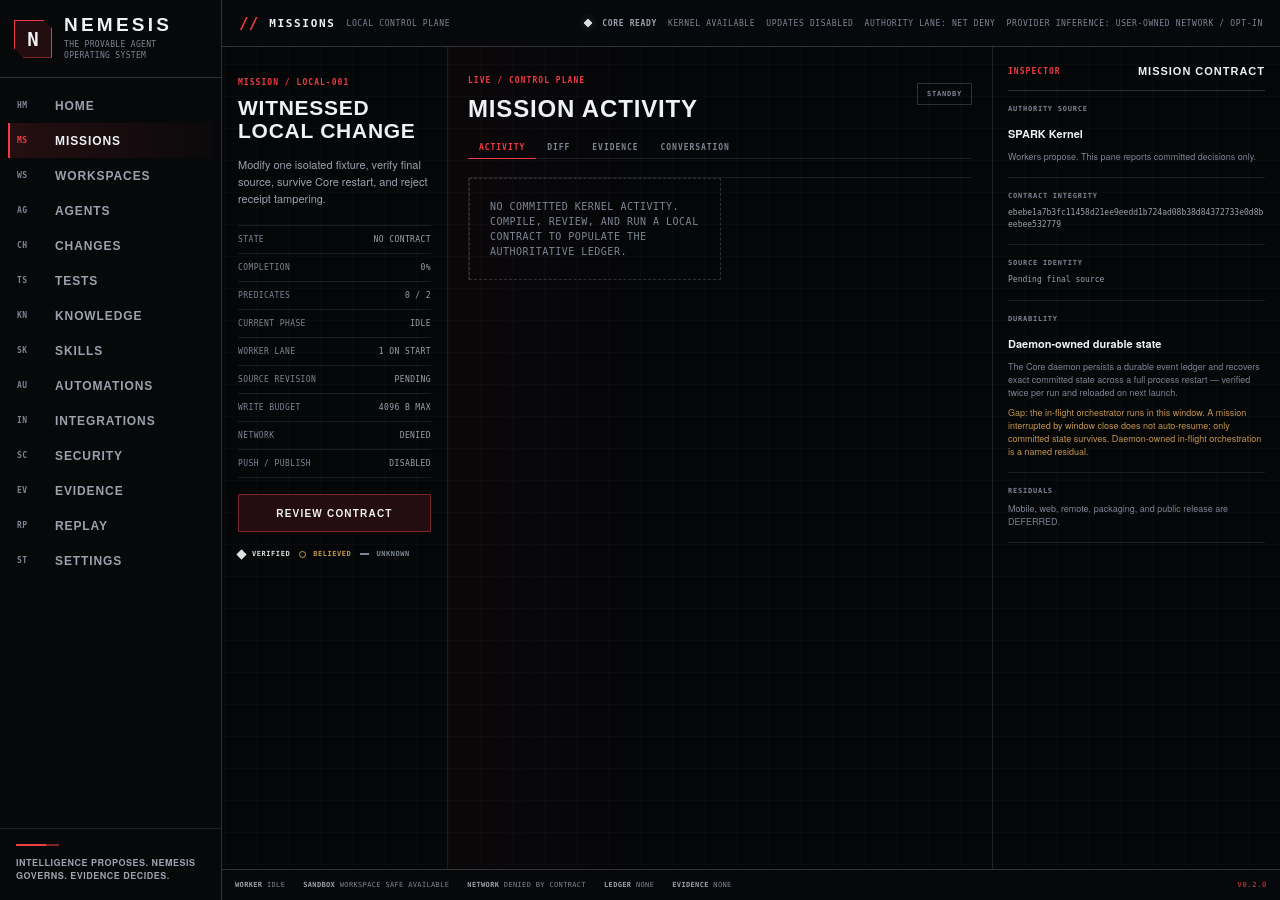
Scenario: NEMESIS Desktop production surface › labels the kernel conversation with kernel enum names, never model chat
What coordinates should you click on to do the following:
click the button "MS Missions"
I would click on:
 (110, 140)
Its box is [8,123,213,158].
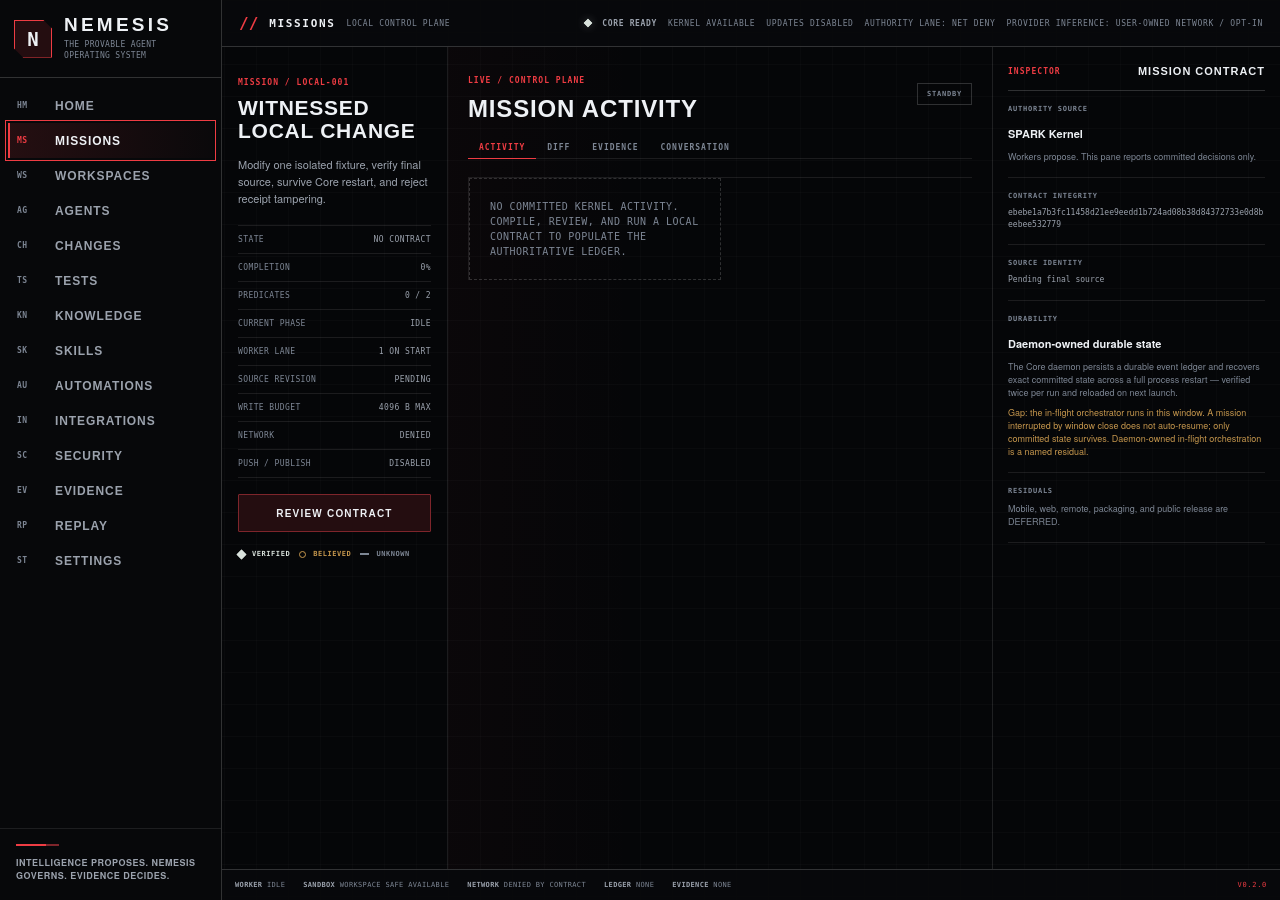
What coordinates should you click on to do the following:
click the tab "Conversation"
I would click on:
 (695, 148)
Its box is [650,137,741,159].
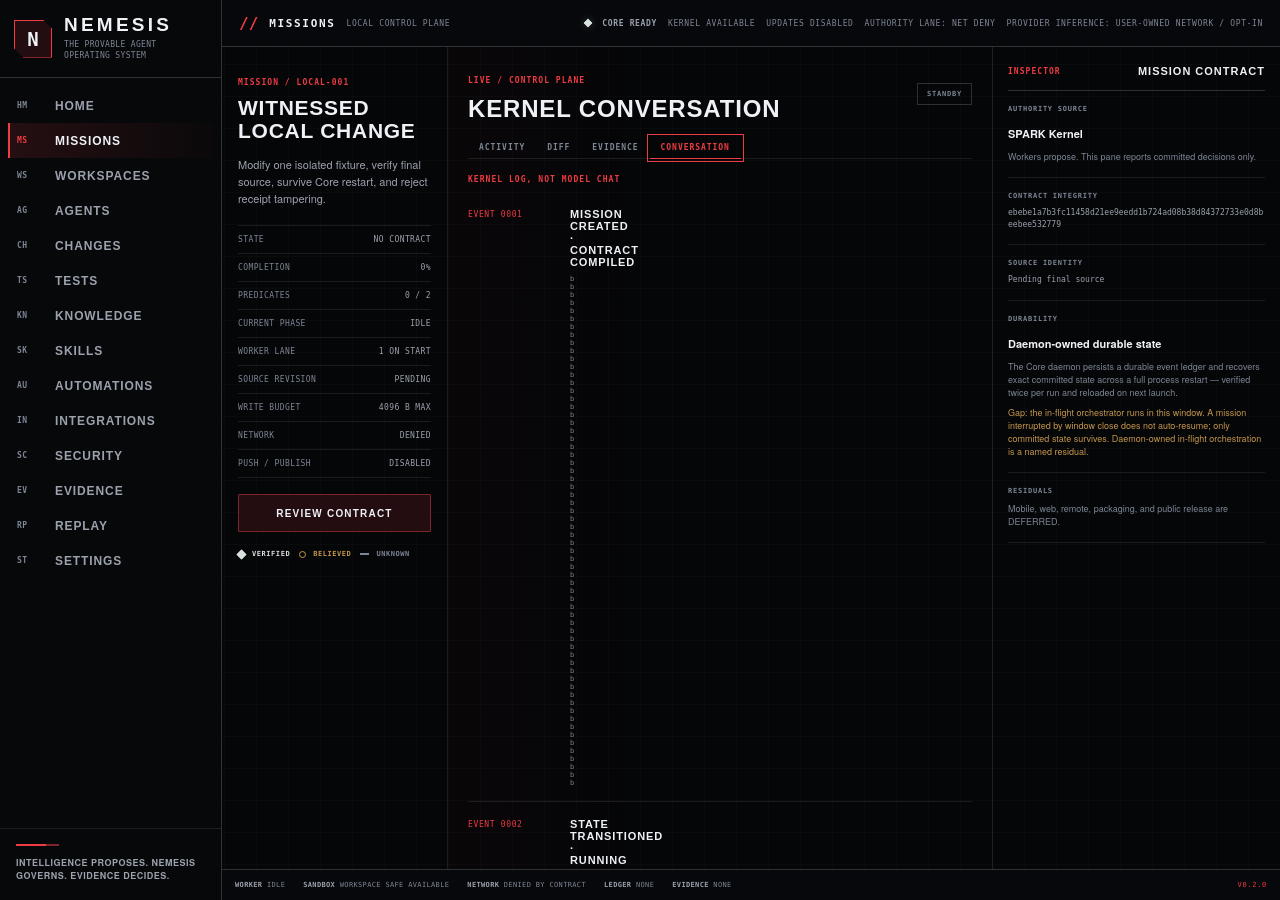
Check: the text "Mission Created · Contract Compiled" is shown, box [570,208,578,268]
Check: the text "State Transitioned · Running" is shown, box [570,818,578,866]
